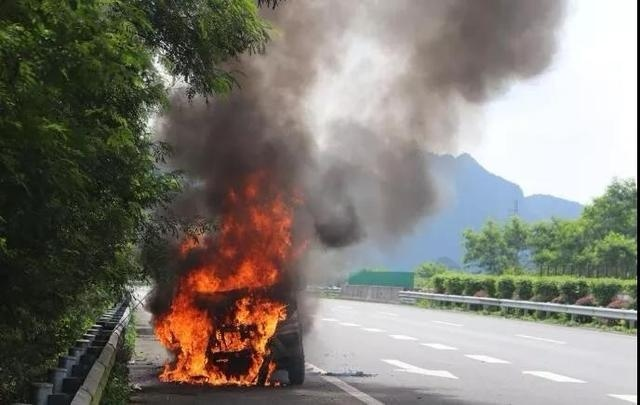fire: (151, 168, 304, 387)
